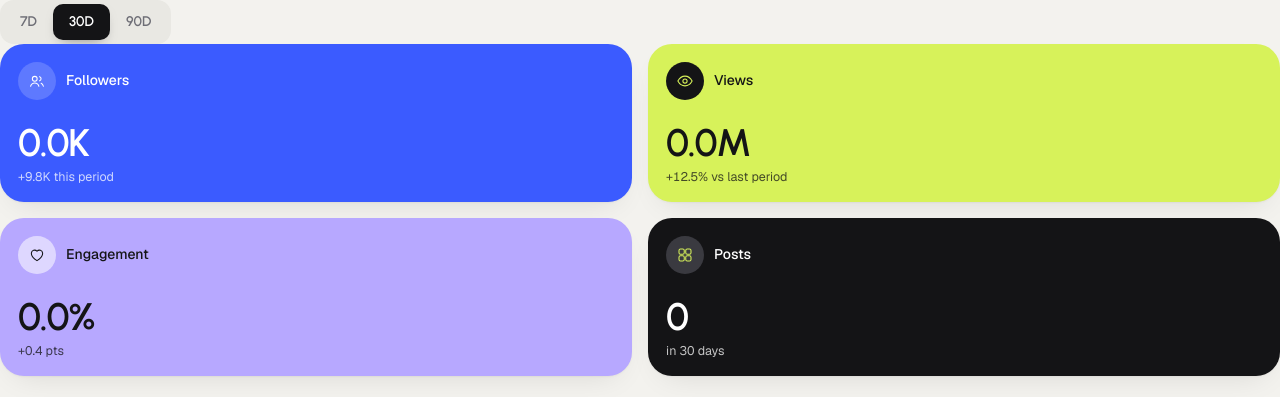
Test: KpiTiles › says whether views rose or fell against the previous period
expect the text "+12.5% vs last period" is shown: met, box [666, 168, 787, 185]
What coordinates should you click on to do the following:
click the button "7D"
I would click on:
 (28, 22)
Its box is [4, 4, 53, 40].
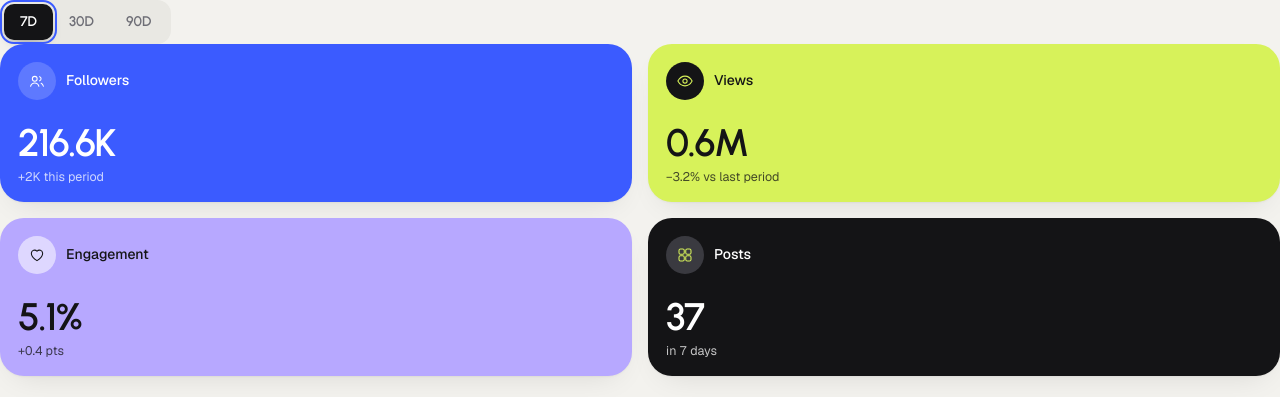
expect the text "−3.2% vs last period" is shown: met, box [666, 168, 779, 185]
